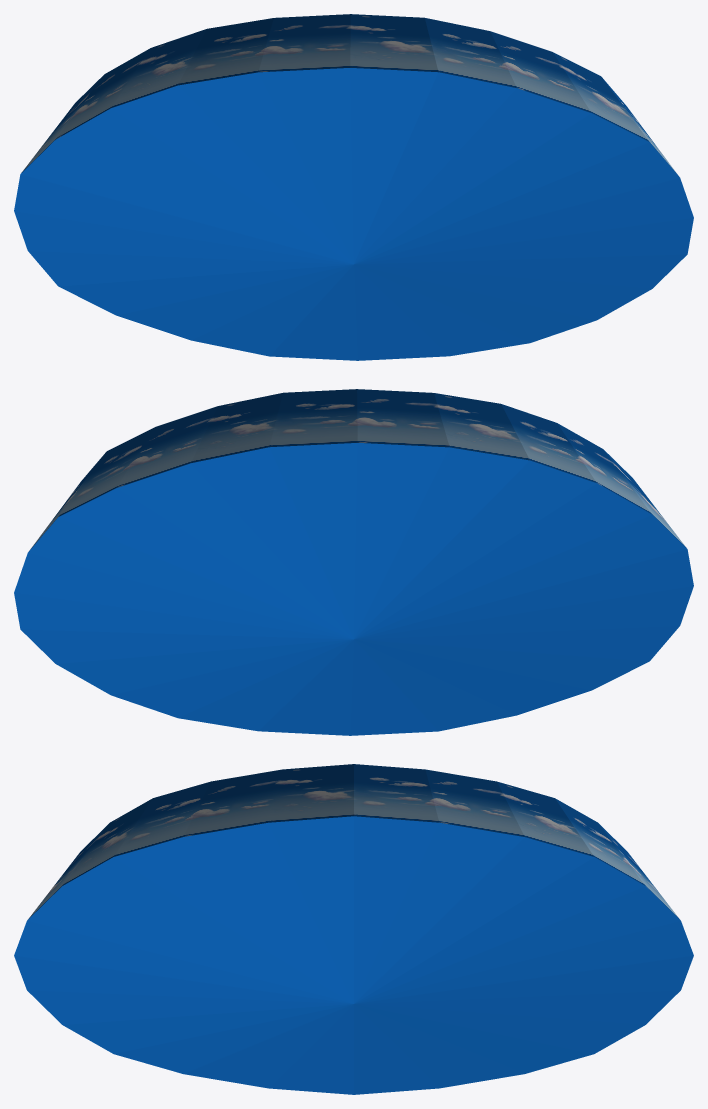
Rendered from vrcorn.glb.
3 renders of one model, top to bottom at view 1: azimuth 30°, elevation 25°; view 2: azimuth 150°, elevation 25°; view 3: azimuth 270°, elevation 25°, orthographic. The views are drawn at different scales.
Parts seen in each view (by area): view 1: polygon0; view 2: polygon0; view 3: polygon0.
Part boxes in pixels (x1,y1,x2,y2): polygon0: [14, 14, 693, 360]; polygon0: [14, 389, 693, 735]; polygon0: [14, 764, 693, 1094].
Bounding box in the file's own units: 1622 × 420 × 1673.
Materials: 1 (1 with a texture image).
